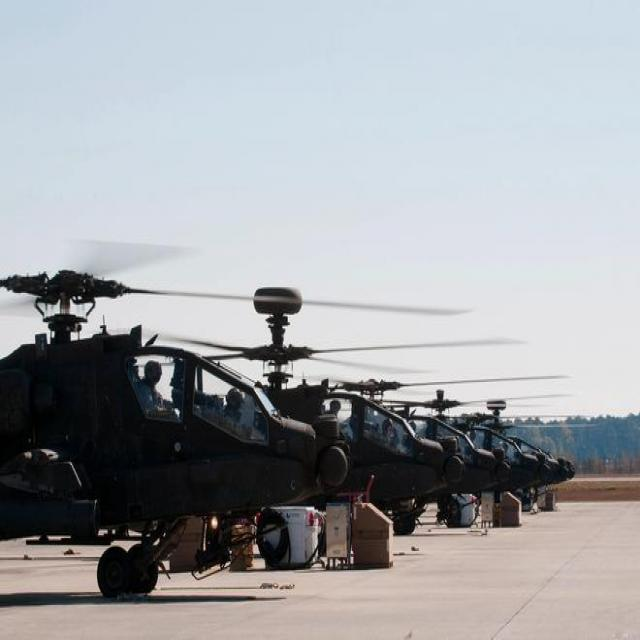MIL_HELO: (3, 252, 363, 610), (218, 266, 458, 544), (353, 356, 500, 534), (411, 373, 540, 516)
